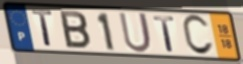1: (96, 11, 116, 52)
B: (58, 9, 93, 51)
C: (180, 13, 216, 57)
T: (30, 9, 55, 49), (151, 15, 177, 53)
U: (117, 11, 154, 55)
